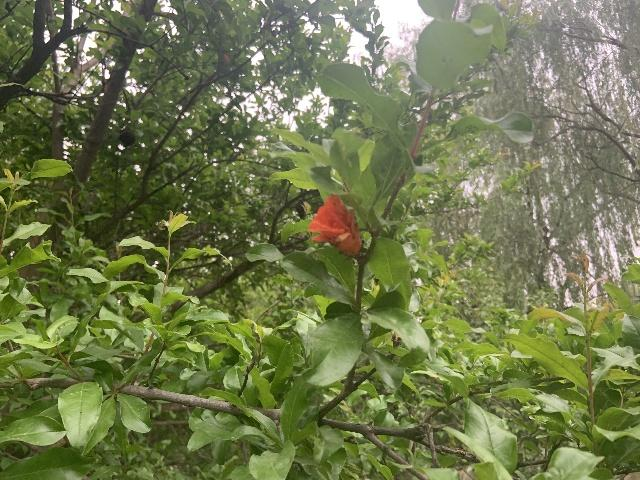flower: (308, 193, 362, 256)
